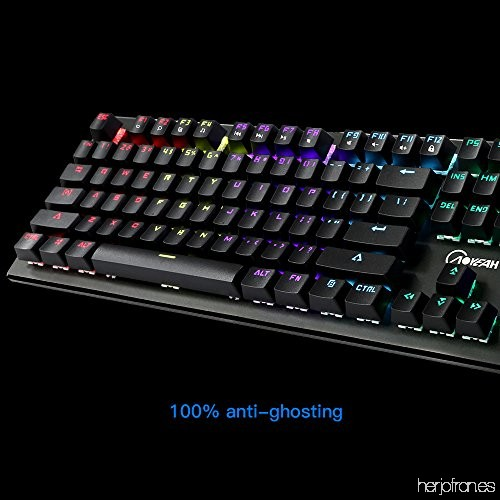Teclado: (7, 101, 500, 371)
